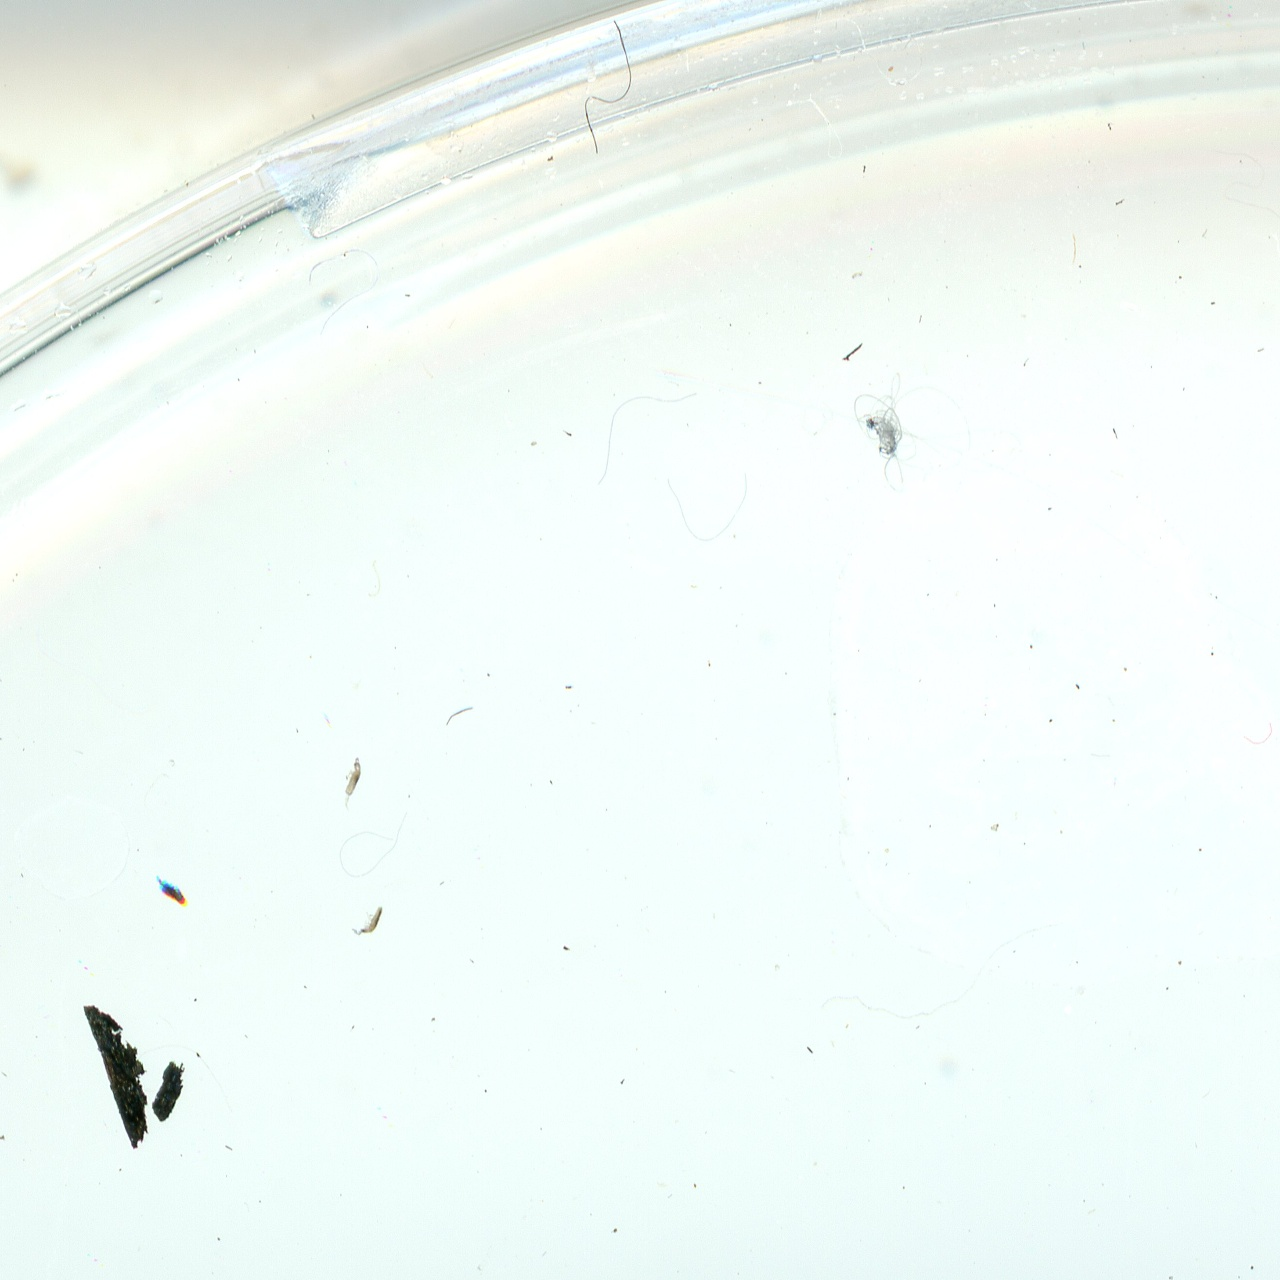arthropod: (338, 756, 369, 812), (152, 873, 195, 910), (350, 905, 387, 938)
